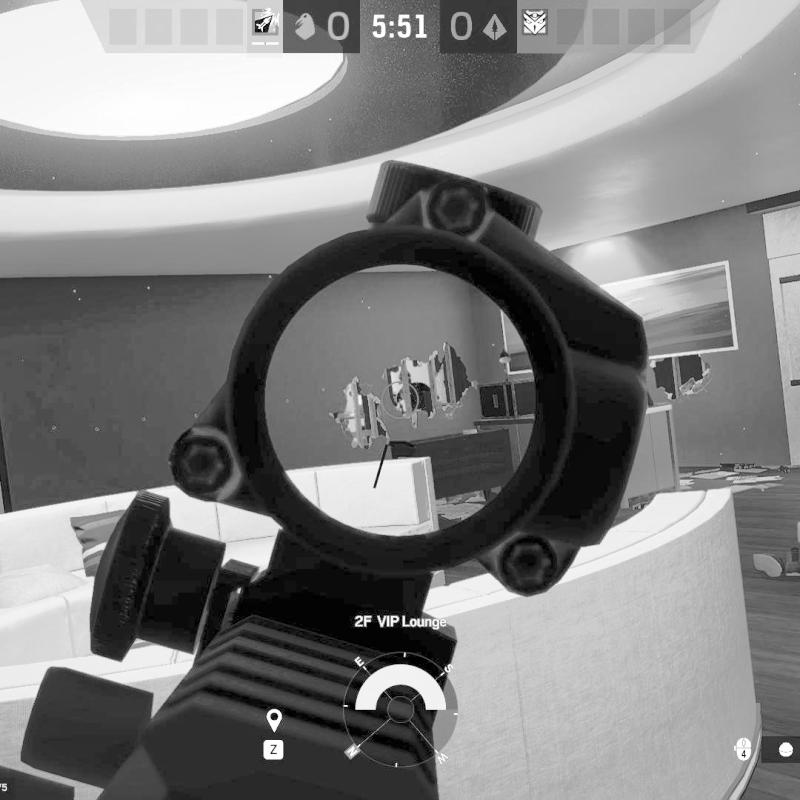Character: (394, 369, 442, 411)
Head: (398, 370, 413, 386)
